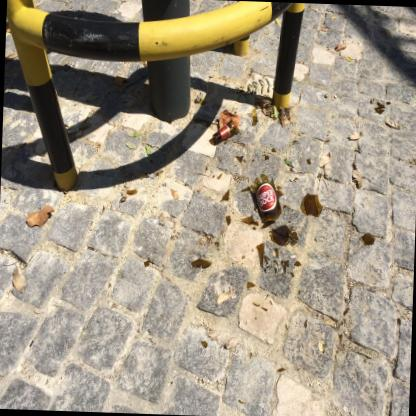Glass: (269, 224, 291, 245), (305, 194, 322, 218), (256, 242, 264, 268), (191, 258, 213, 267), (241, 215, 259, 226), (361, 232, 376, 245), (290, 227, 299, 245), (252, 108, 258, 126), (222, 188, 229, 200), (127, 188, 138, 195), (376, 101, 385, 109), (277, 190, 284, 198), (247, 282, 255, 289), (283, 260, 290, 268), (226, 215, 231, 226), (264, 255, 270, 264), (201, 341, 208, 348), (241, 186, 249, 192), (144, 260, 150, 268), (217, 174, 223, 180), (343, 308, 349, 314), (294, 261, 301, 266), (252, 302, 259, 307), (283, 264, 286, 275), (278, 368, 286, 372), (238, 400, 246, 404), (237, 157, 243, 162), (290, 272, 295, 278), (262, 307, 268, 312), (379, 109, 384, 115), (275, 248, 278, 257), (306, 159, 311, 164), (214, 242, 219, 247), (274, 260, 279, 265), (265, 293, 268, 300), (273, 268, 277, 273), (267, 265, 272, 269), (277, 186, 282, 190), (386, 101, 391, 105), (340, 335, 343, 341), (375, 108, 378, 114), (305, 319, 307, 327), (272, 148, 276, 152), (265, 156, 268, 161), (281, 260, 283, 266), (252, 226, 256, 229), (242, 255, 245, 259), (264, 268, 266, 274), (269, 300, 272, 304), (283, 205, 286, 208), (262, 154, 266, 156)
Paper: (310, 7, 318, 11)
Plastic: (254, 174, 282, 222), (213, 118, 239, 144)
